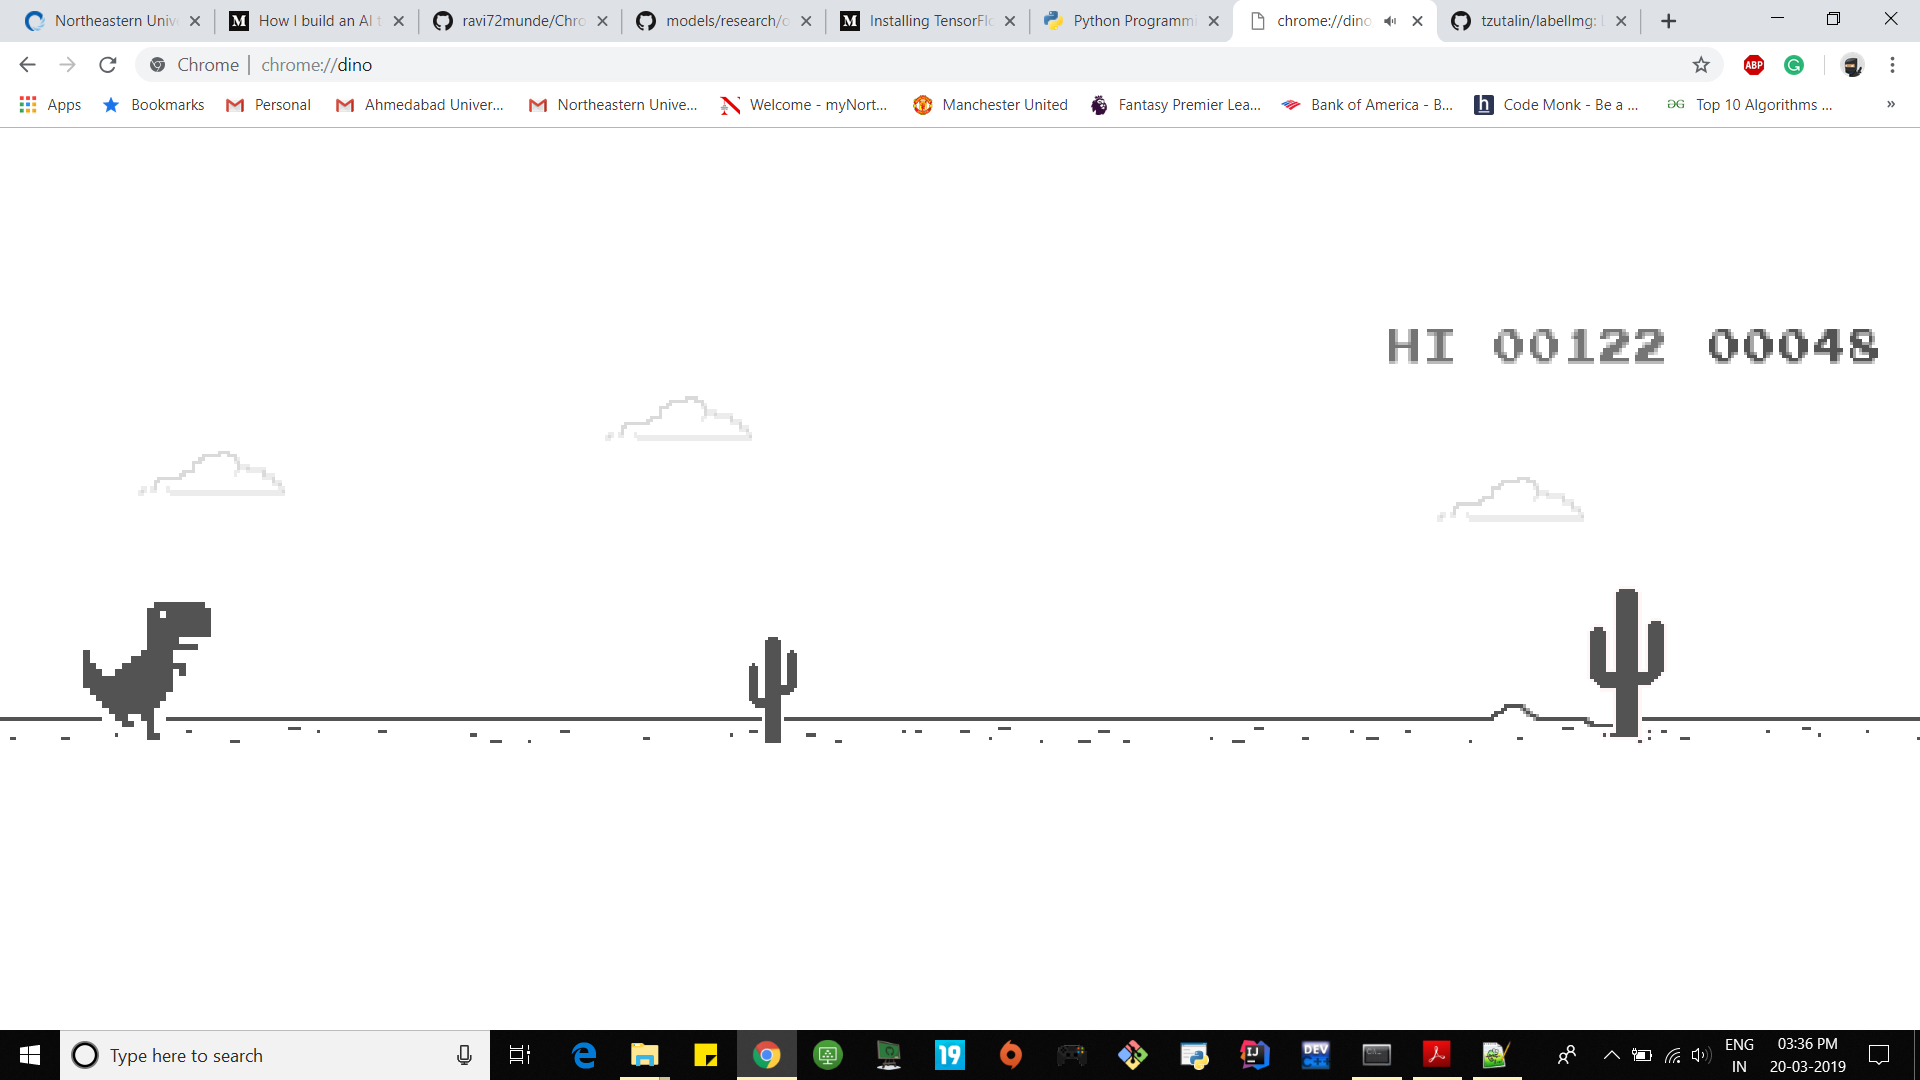cactus-1: (1588, 589, 1665, 738)
cactus-small: (746, 637, 800, 738)
dino: (84, 599, 212, 738)
